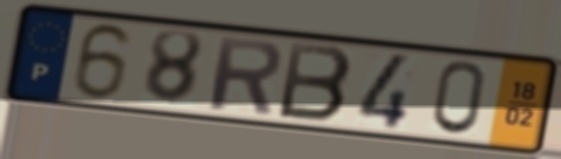0: (431, 59, 490, 137)
4: (353, 52, 417, 132)
6: (69, 20, 137, 103)
8: (139, 28, 206, 109)
B: (274, 39, 356, 126)
R: (206, 33, 286, 117)
